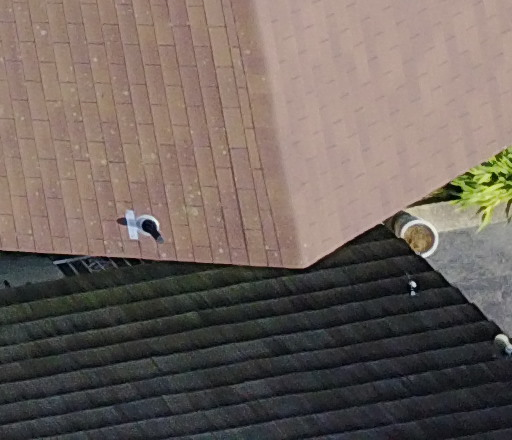flower pot: (379, 212, 442, 263)
